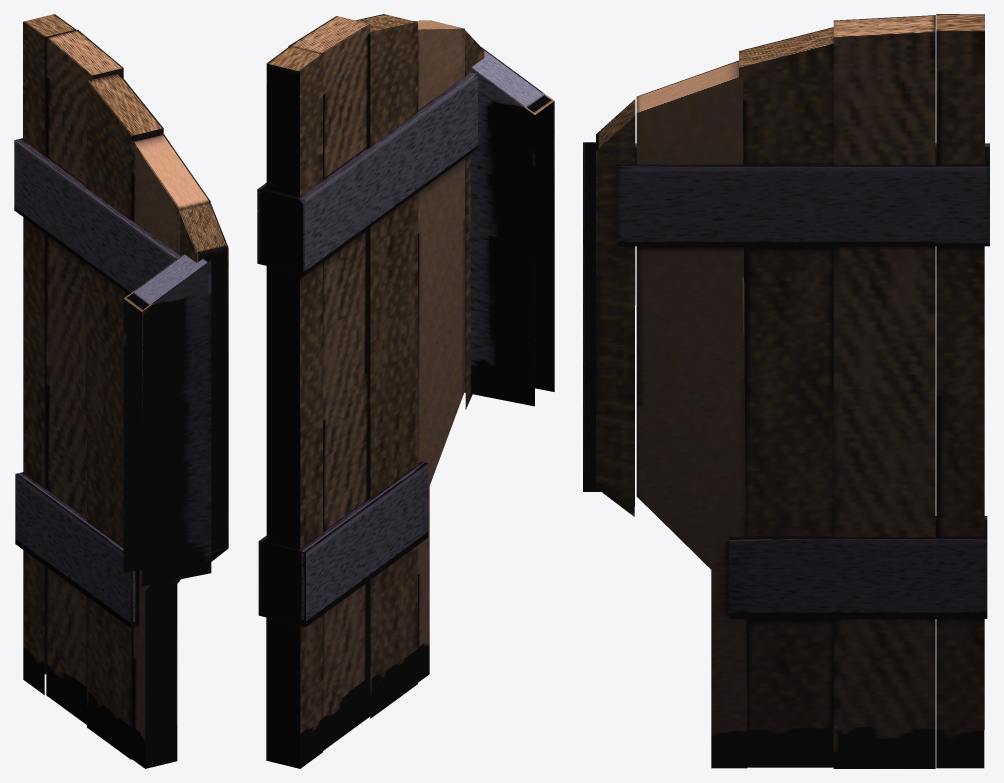
The model's file is DoorSide2F9.obj.
3 renders of one model, left to right at view 1: azimuth 30°, elevation 25°; view 2: azimuth 150°, elevation 25°; view 3: azimuth 270°, elevation 25°, orthographic. The views are drawn at different scales.
Visible parts, largest first — view 1: DoorSide2F9_Cube.430; view 2: DoorSide2F9_Cube.430; view 3: DoorSide2F9_Cube.430.
Part boxes in pixels (box(x1,y1,x2,y2)): DoorSide2F9_Cube.430: box(14, 14, 228, 768); DoorSide2F9_Cube.430: box(257, 14, 554, 768); DoorSide2F9_Cube.430: box(583, 14, 989, 768).
Size of the model in its own units: 27.98 by 179 by 89.4.
Materials: 1 (1 with a texture image).
